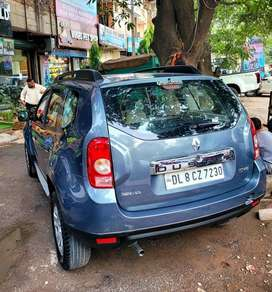DL8CZ7230: (164, 162, 226, 189)
